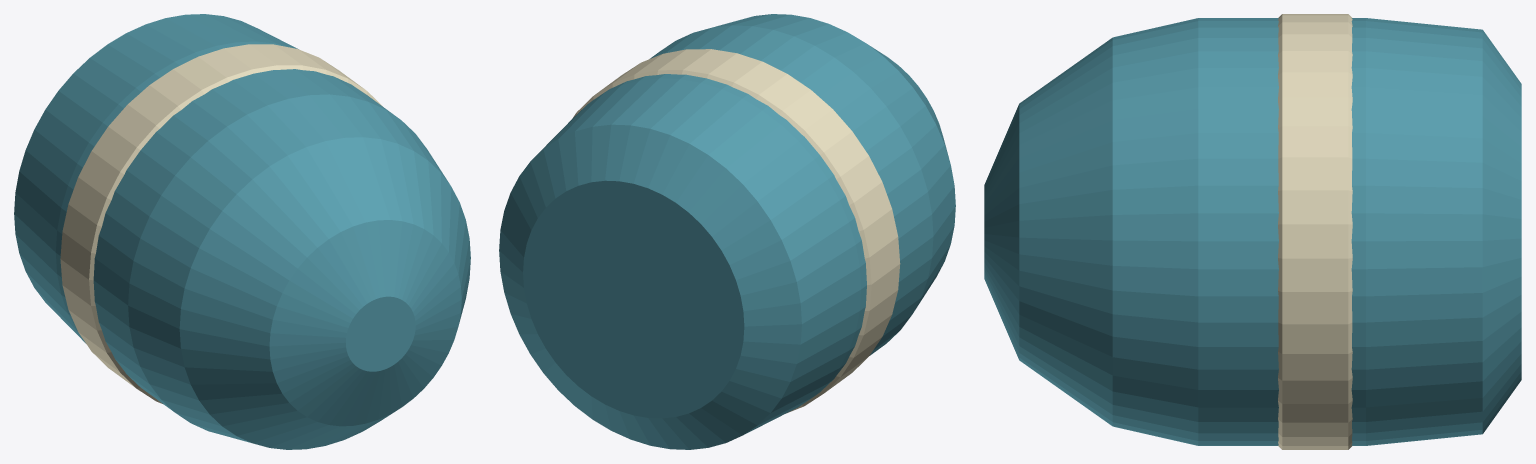
The model's file is RUBBER_SHELL.hi.glb.
The picture shows the model from 3 angles, left to right: view 1: azimuth 30°, elevation 25°; view 2: azimuth 150°, elevation 25°; view 3: azimuth 270°, elevation 25°; orthographic projection. The views are drawn at different scales.
Visible parts, largest first — view 1: Body_Mesh; view 2: Body_Mesh; view 3: Body_Mesh.
Part boxes in pixels (bbox=[...]): Body_Mesh: bbox=[14, 14, 470, 449]; Body_Mesh: bbox=[499, 14, 955, 449]; Body_Mesh: bbox=[984, 14, 1521, 449].
Bounding box in the file's own units: 0.112 × 0.112 × 0.138.
Materials: 1 (1 with a texture image).
